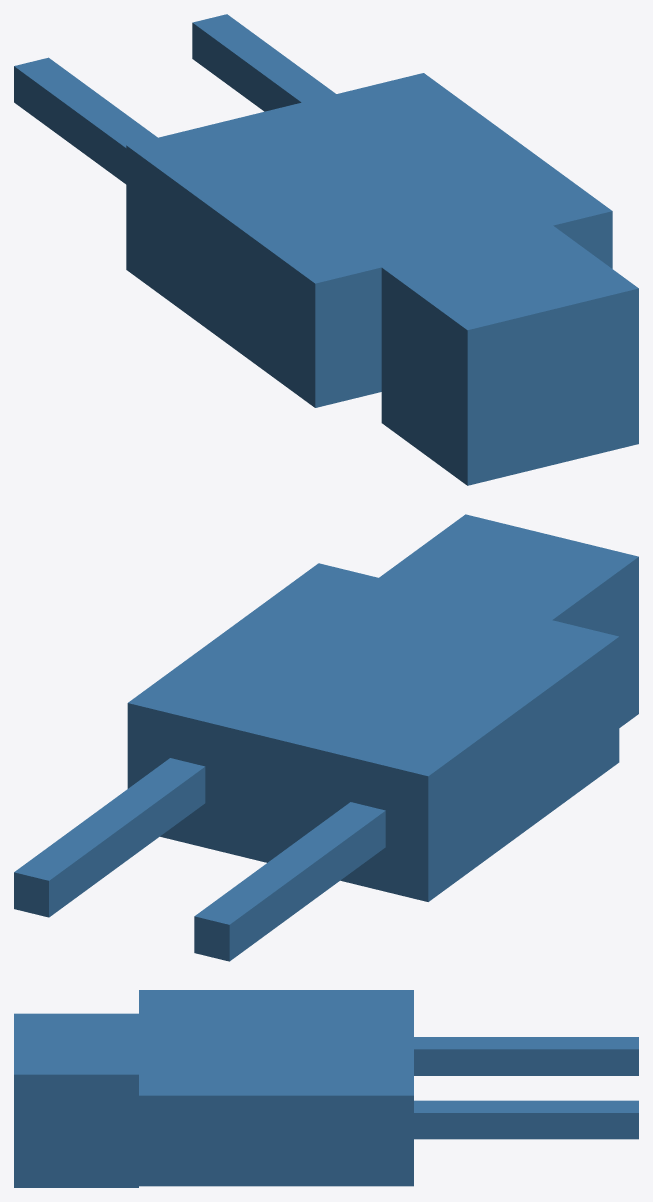
File: tinker.obj
3 views of the same model, one above another, from view 1: azimuth 30°, elevation 25°; view 2: azimuth 150°, elevation 25°; view 3: azimuth 270°, elevation 25° (orthographic). The views are drawn at different scales.
Parts seen in each view (by area): view 1: obj_0; view 2: obj_0; view 3: obj_0.
Boxes of the visible parts, <box> form: obj_0: <box>14,14,638,485</box>; obj_0: <box>14,514,638,961</box>; obj_0: <box>14,990,638,1187</box>.
Bounding box in the file's own units: 10 × 5 × 25.
